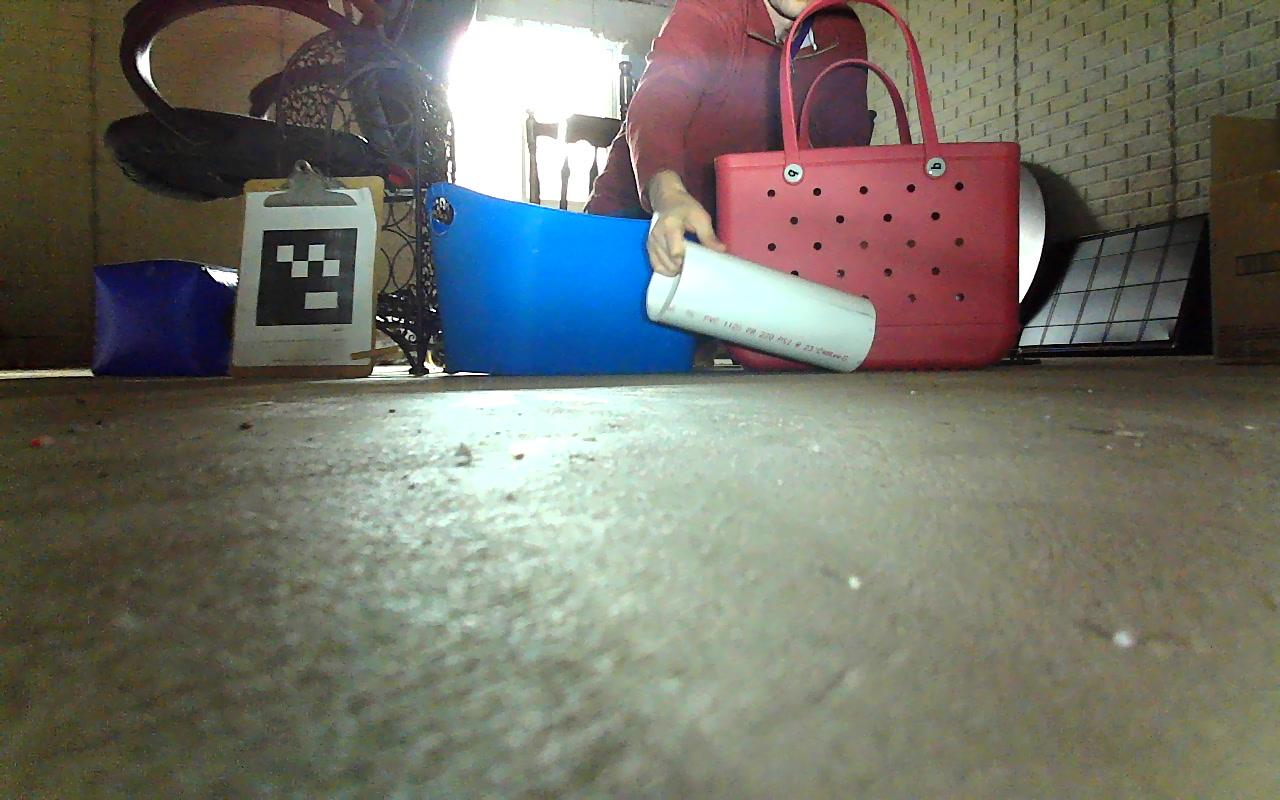coral: (638, 230, 876, 377)
